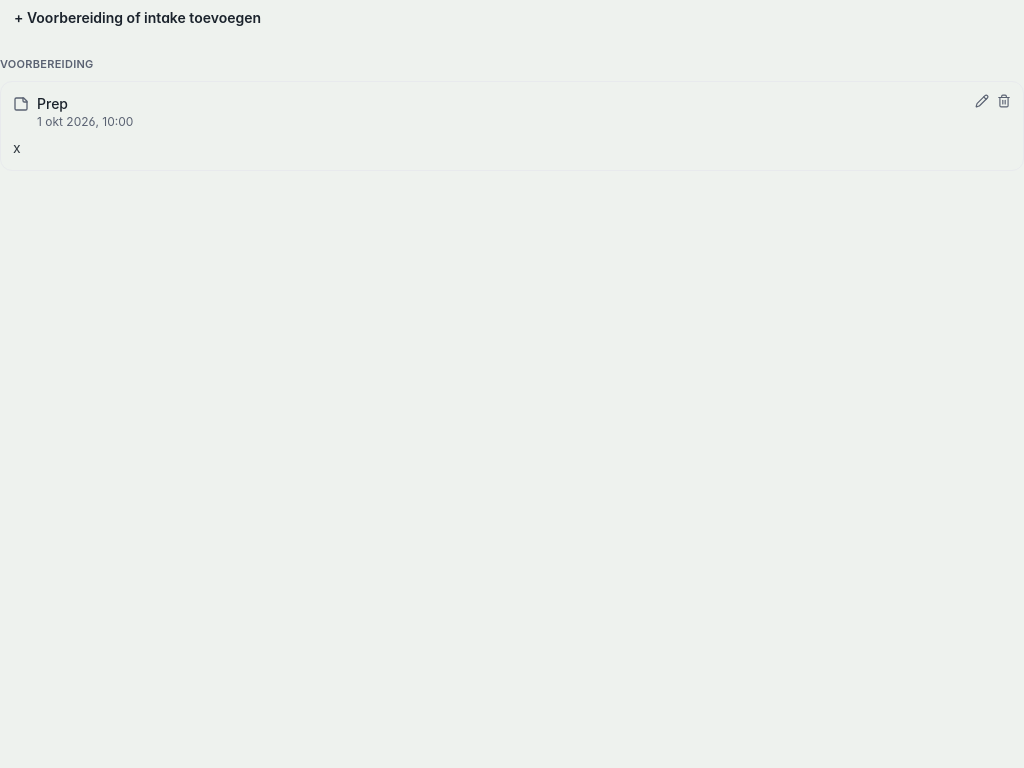
Test: PrepIntakeTab › shows note item and delete confirmation dialog
Expected: the button "Prep" is shown, [37,94,68,114]
Expected: the heading "Voorbereiding" is shown, [0,57,94,71]
Click delete button (aria-label)
Click the button named "Verwijderen". click: (1004, 100)
box: [997,94,1011,108]
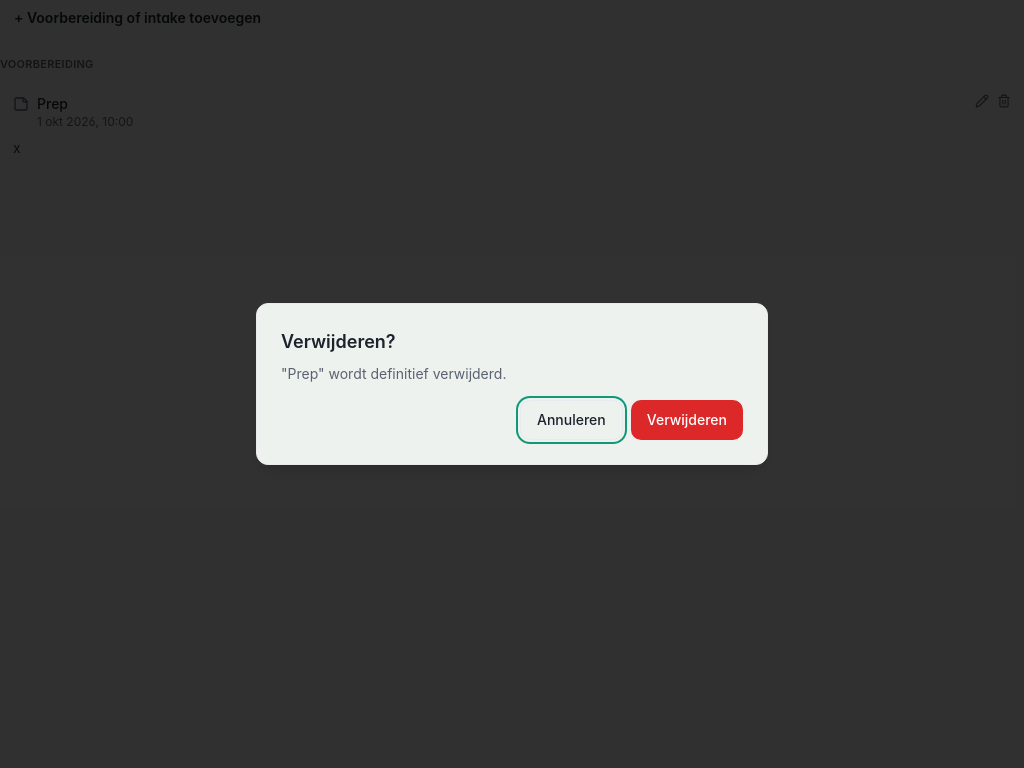
Expected: the heading "Verwijderen?" is shown, [281,331,396,352]
